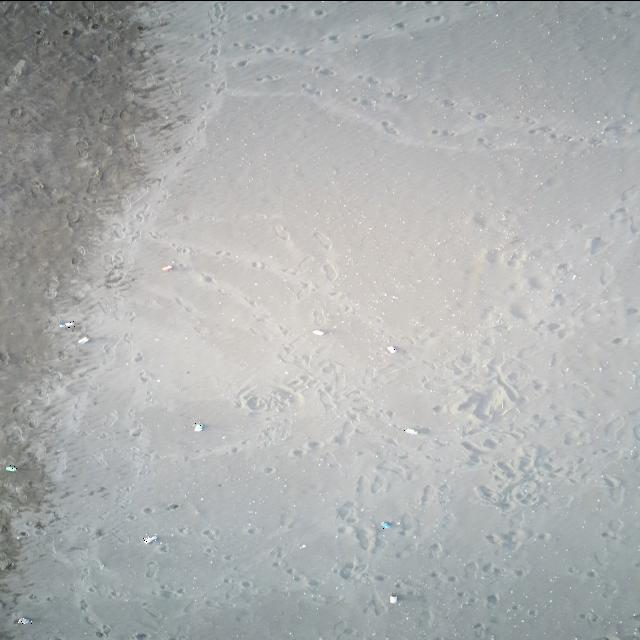Garbage: (141, 535, 156, 543), (16, 616, 32, 623), (59, 320, 74, 327), (77, 335, 88, 344), (160, 263, 172, 271), (388, 592, 396, 603), (4, 464, 16, 471), (193, 423, 203, 431), (380, 520, 391, 527), (404, 427, 416, 433), (387, 344, 396, 352), (313, 328, 323, 335), (300, 544, 306, 548)
